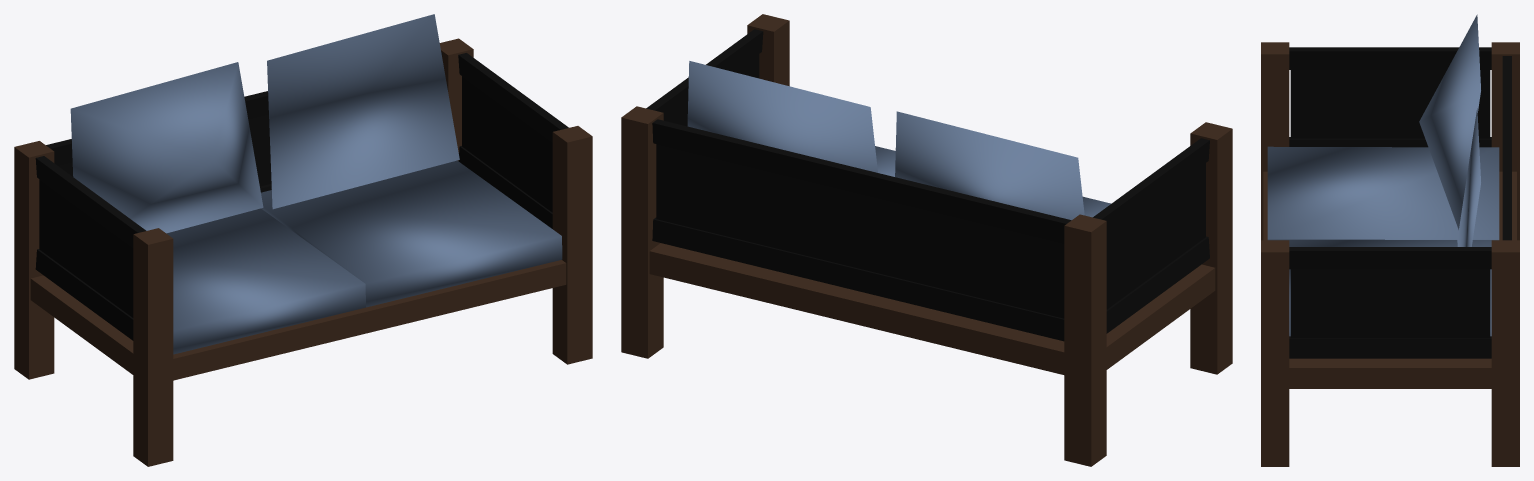
File: bay-lounge-sofa.lod1.glb
The picture shows the model from 3 angles, left to right: view 1: azimuth 30°, elevation 25°; view 2: azimuth 150°, elevation 25°; view 3: azimuth 270°, elevation 25°; orthographic projection. The views are drawn at different scales.
Parts seen in each view (by area): view 1: LoungeSofa_LeatherWeave_0; view 2: LoungeSofa_LeatherWeave_0; view 3: LoungeSofa_LeatherWeave_0.
Boxes of the visible parts, x1,y1,x2,y2 form: LoungeSofa_LeatherWeave_0: (14, 14, 592, 466); LoungeSofa_LeatherWeave_0: (621, 14, 1232, 466); LoungeSofa_LeatherWeave_0: (1261, 14, 1519, 466).
Bounding box in the file's own units: 1.6 × 0.9353 × 0.8343.
